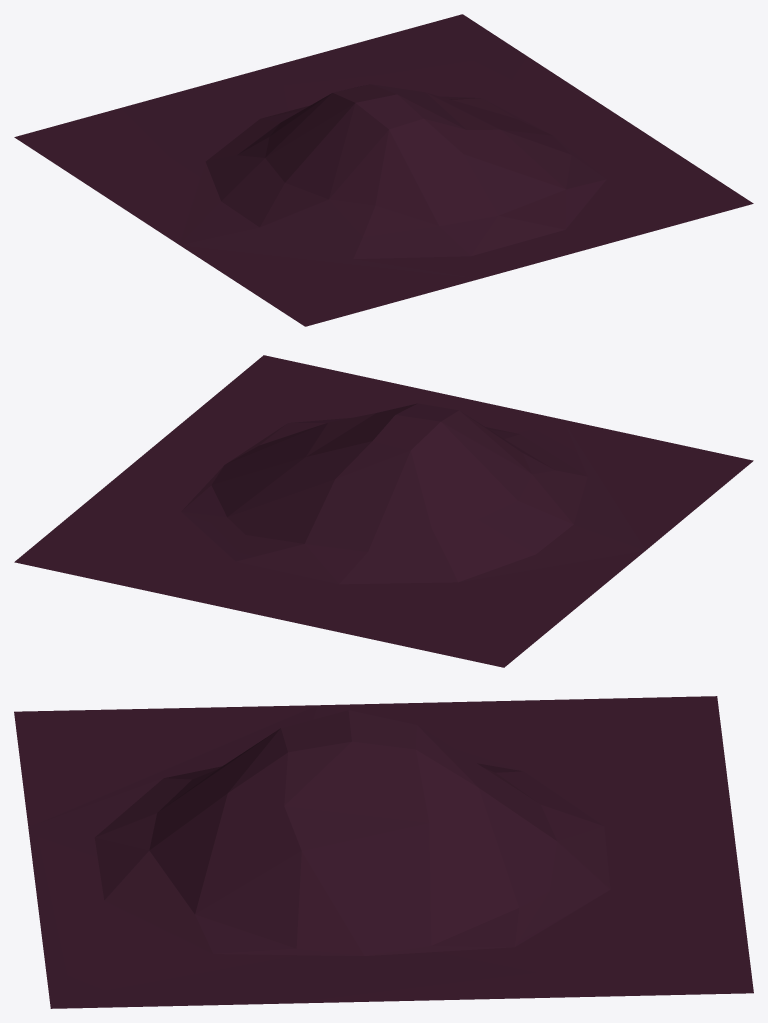
The model's file is lowpolyrock.fbx.
3 renders of one model, top to bottom at view 1: azimuth 30°, elevation 25°; view 2: azimuth 150°, elevation 25°; view 3: azimuth 270°, elevation 25°, orthographic. The views are drawn at different scales.
Parts seen in each view (by area): view 1: rock; view 2: rock; view 3: rock.
Boxes of the visible parts, x1,y1,x2,y2 form: rock: [14, 14, 753, 326]; rock: [14, 355, 753, 667]; rock: [14, 696, 753, 1008].
Size of the model in its own units: 10993 by 1896 by 10993.
